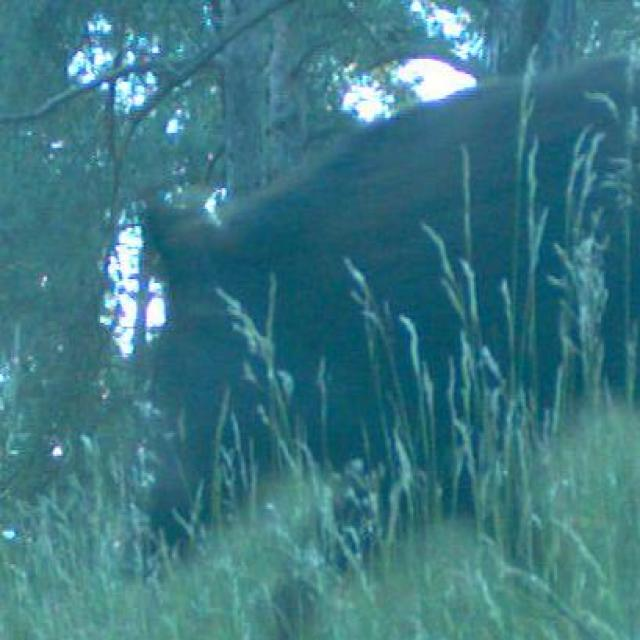pig: (82, 76, 640, 637)
